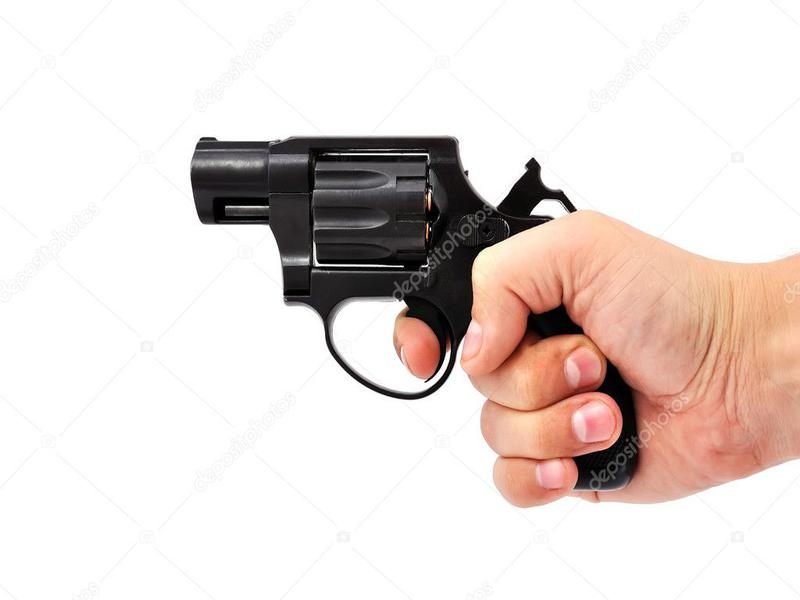Revolver: (183, 97, 606, 418)
